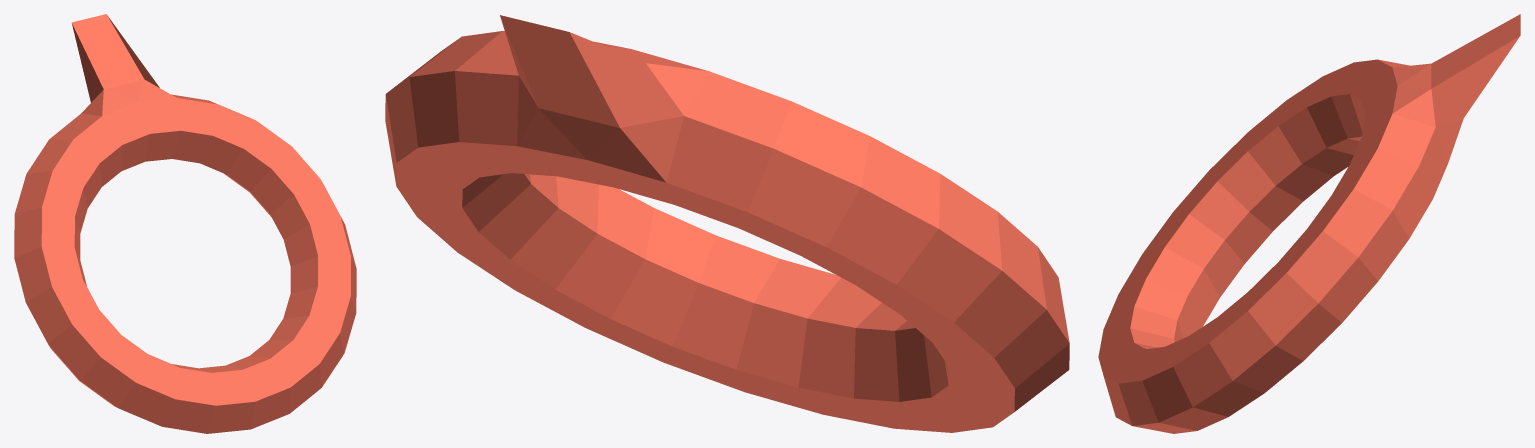
The model's file is gancho_000002.obj.
3 views of the same model, side by side, from view 1: azimuth 30°, elevation 25°; view 2: azimuth 150°, elevation 25°; view 3: azimuth 270°, elevation 25° (orthographic). The views are drawn at different scales.
Parts seen in each view (by area): view 1: Torus; view 2: Torus; view 3: Torus.
Boxes of the visible parts, <box> form: Torus: <box>14,14,356,433</box>; Torus: <box>385,15,1069,432</box>; Torus: <box>1098,14,1520,433</box>.
Bounding box in the file's own units: 9.3 × 8.39 × 8.39.
Materials: 1 (1 with a texture image).
